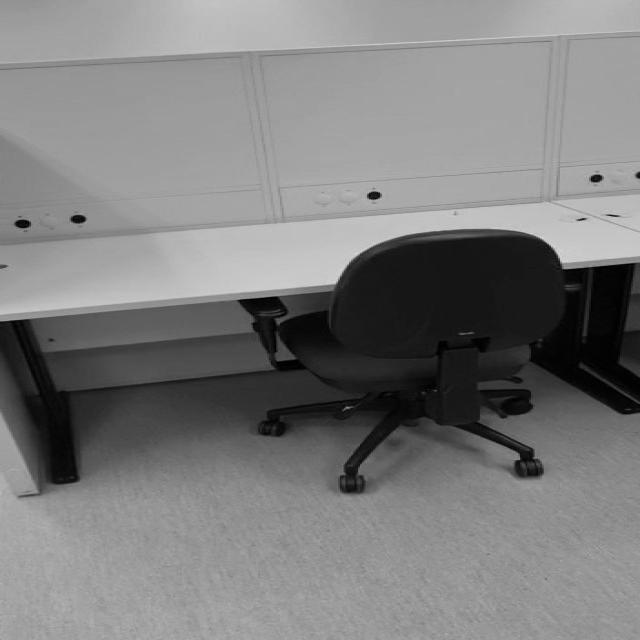chair: (238, 230, 564, 491)
